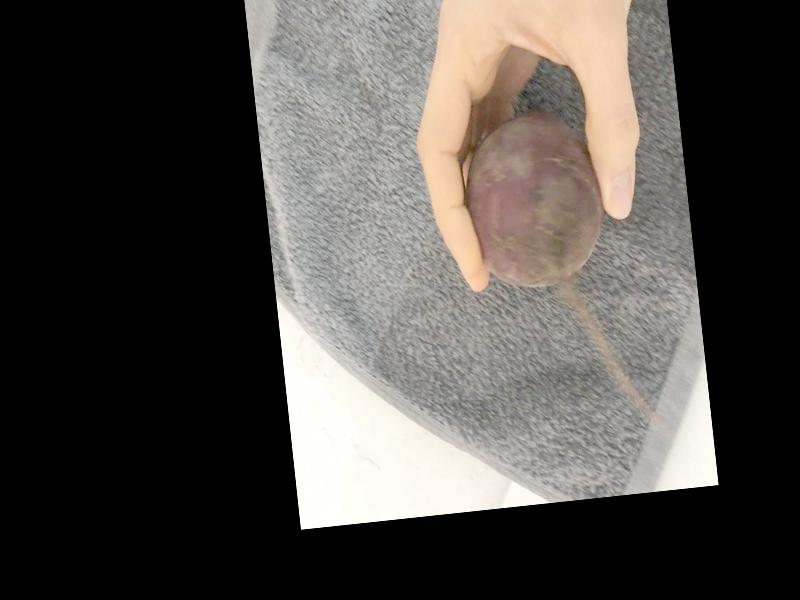Beet: (458, 107, 610, 292)
